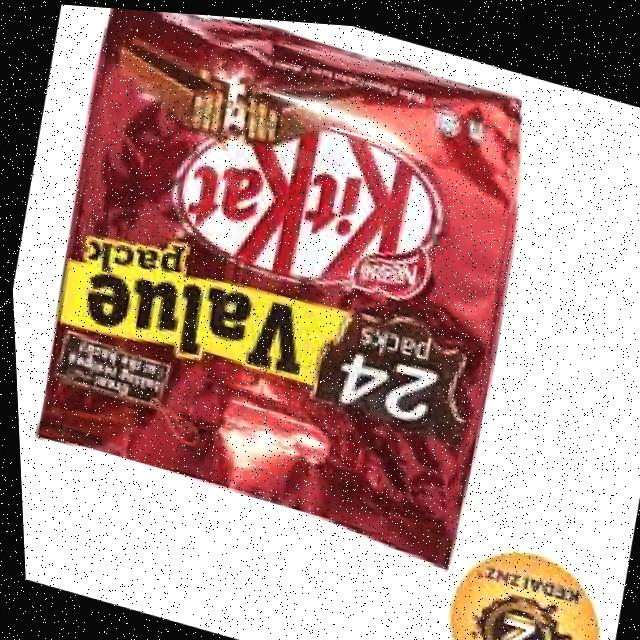kitkat: (13, 1, 546, 567)
